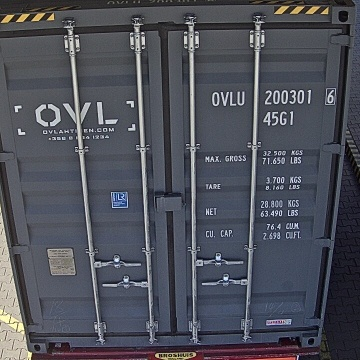serial_id: (212, 89, 336, 106)
